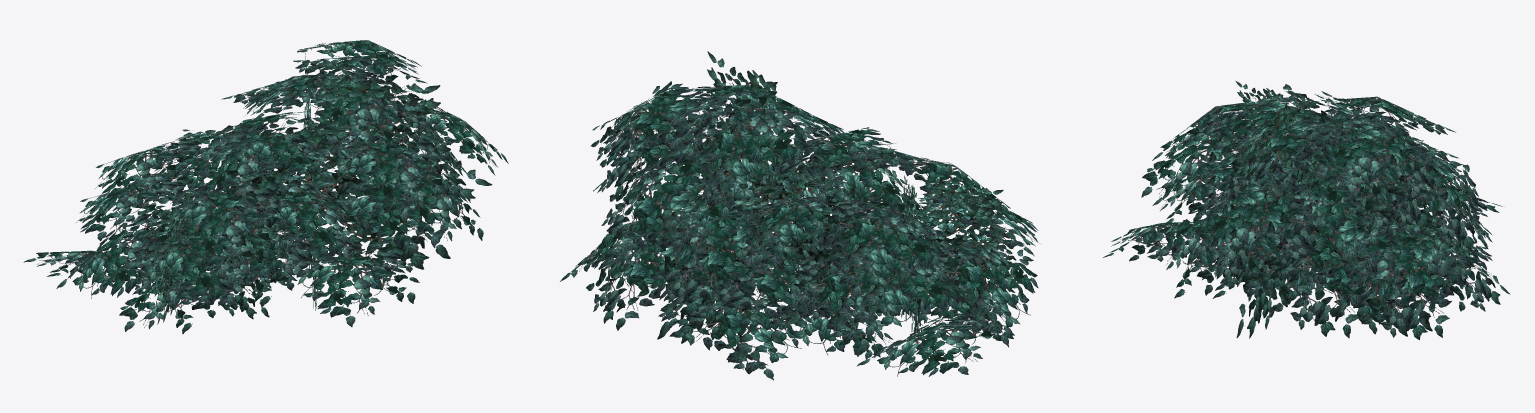
The model's file is shrb_dath_greybush_lg_l0.fbx.
The picture shows the model from 3 angles, left to right: view 1: azimuth 30°, elevation 25°; view 2: azimuth 150°, elevation 25°; view 3: azimuth 270°, elevation 25°; orthographic projection. The views are drawn at different scales.
Parts seen in each view (by area): view 1: mesh_node; view 2: mesh_node; view 3: mesh_node.
Boxes of the visible parts, bbox=[...] form: mesh_node: bbox=[23, 40, 508, 333]; mesh_node: bbox=[560, 51, 1039, 380]; mesh_node: bbox=[1103, 81, 1510, 339].
Bounding box in the file's own units: 7.21 × 3.99 × 5.88.
